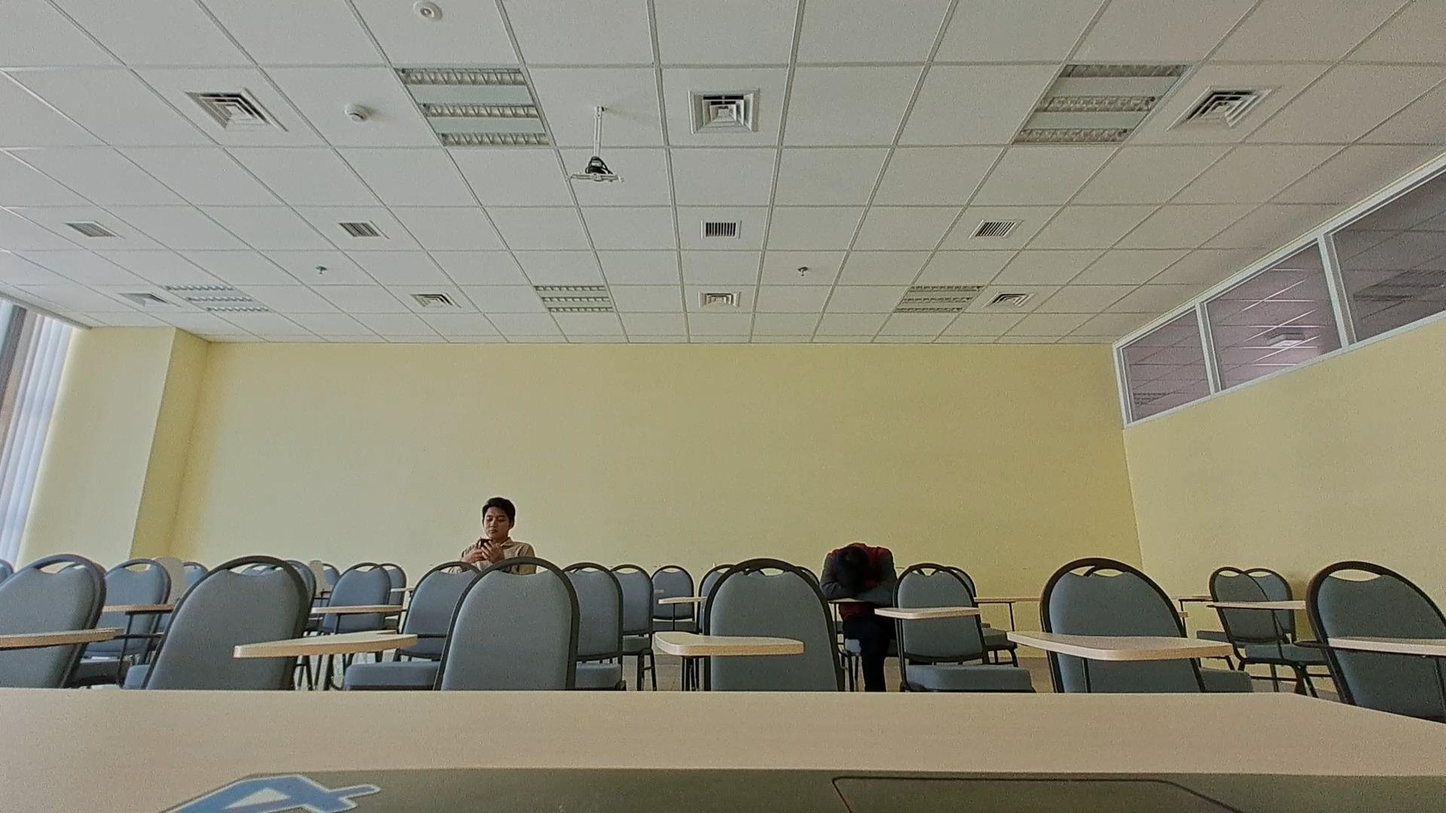phone: (454, 498, 536, 582)
sleep: (817, 541, 902, 599)
